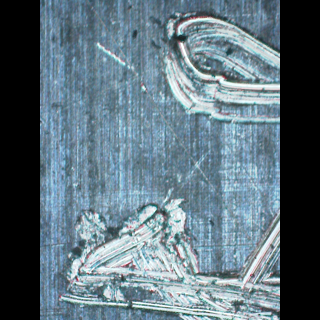d: (52, 187, 280, 320), (154, 5, 280, 138)
